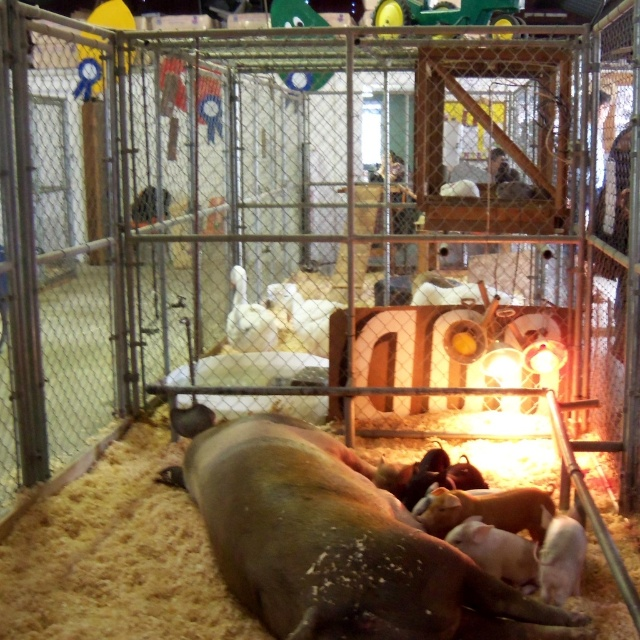Pig: (151, 401, 588, 640)
